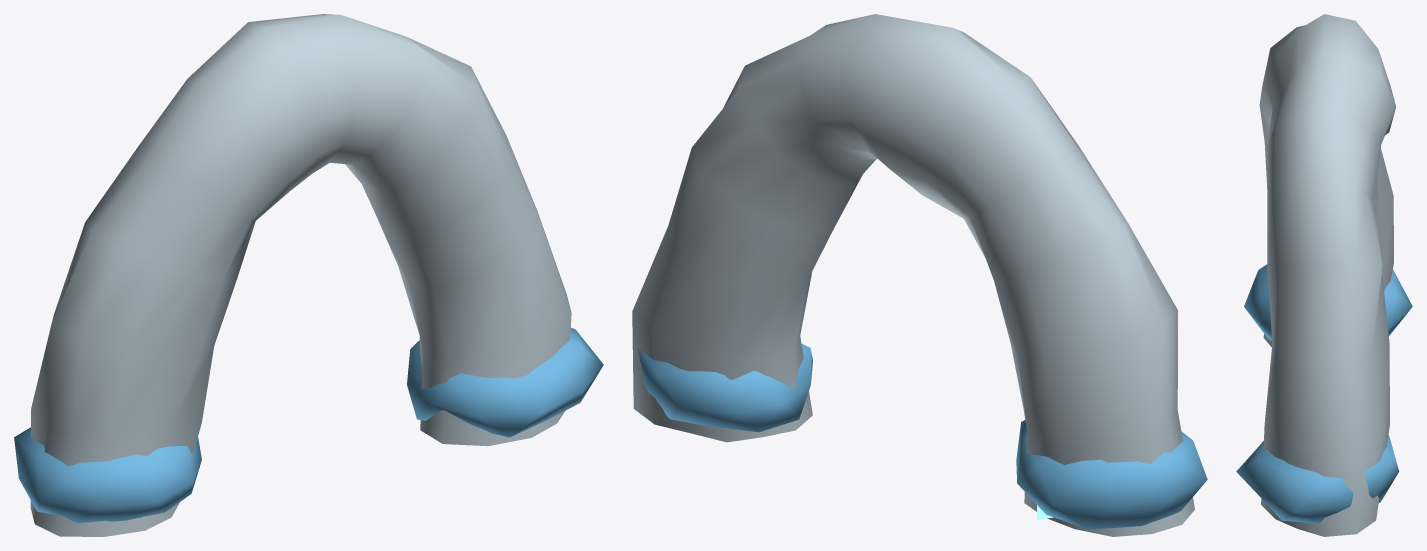
The model's file is TILE_Arch.glb.
3 views of the same model, side by side, from view 1: azimuth 30°, elevation 25°; view 2: azimuth 150°, elevation 25°; view 3: azimuth 270°, elevation 25° (orthographic). The views are drawn at different scales.
Visible parts, largest first — view 1: TILE_Arch; view 2: TILE_Arch; view 3: TILE_Arch.
Boxes of the visible parts, bbox=[...] form: TILE_Arch: bbox=[14, 14, 603, 536]; TILE_Arch: bbox=[632, 14, 1207, 536]; TILE_Arch: bbox=[1236, 14, 1412, 536].
Size of the model in its own units: 6.8 by 5.13 by 2.08.
